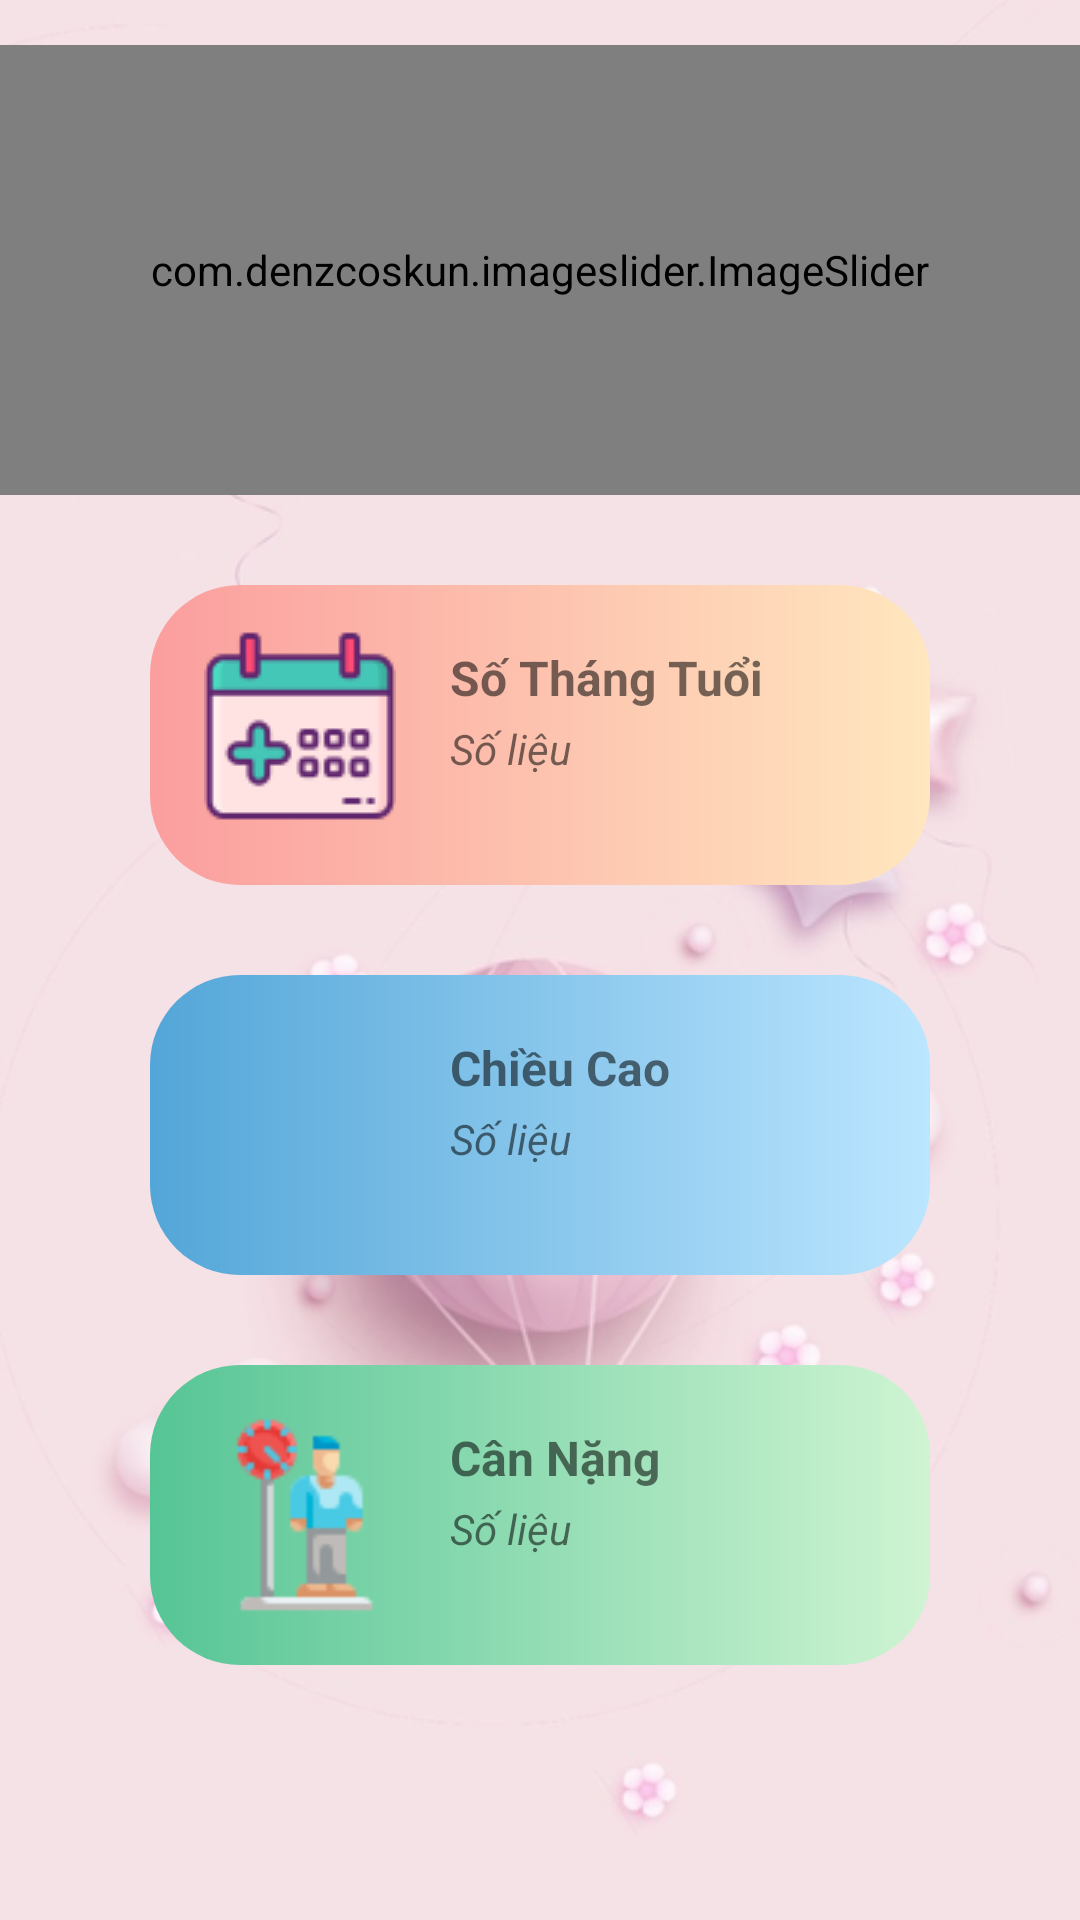

Where to tap for icons on this 1080*1920 app screen, as (x=x, y=y):
schedules: (x=300, y=726)
weight: (x=284, y=1515)
